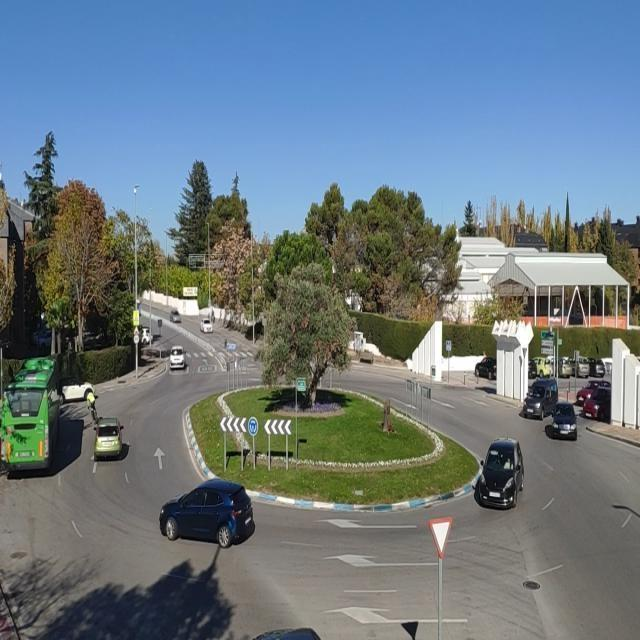Bus: (0, 355, 61, 472)
Car: (158, 479, 254, 547), (478, 437, 525, 510), (522, 379, 560, 419), (92, 417, 124, 459), (247, 626, 325, 640), (548, 403, 578, 439), (580, 387, 611, 421), (576, 379, 612, 404), (61, 378, 95, 403), (474, 357, 497, 380), (550, 356, 574, 378), (586, 355, 606, 378), (32, 328, 53, 349), (570, 356, 590, 378), (530, 356, 550, 378), (169, 346, 186, 370), (139, 326, 152, 346), (200, 317, 214, 333), (528, 356, 537, 378), (170, 310, 181, 323)
